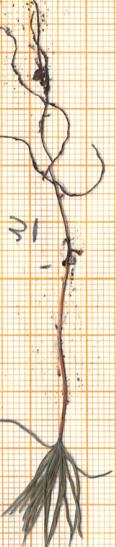flower: (0, 443, 111, 545)
root: (2, 4, 105, 224)
stem: (50, 204, 75, 438)
